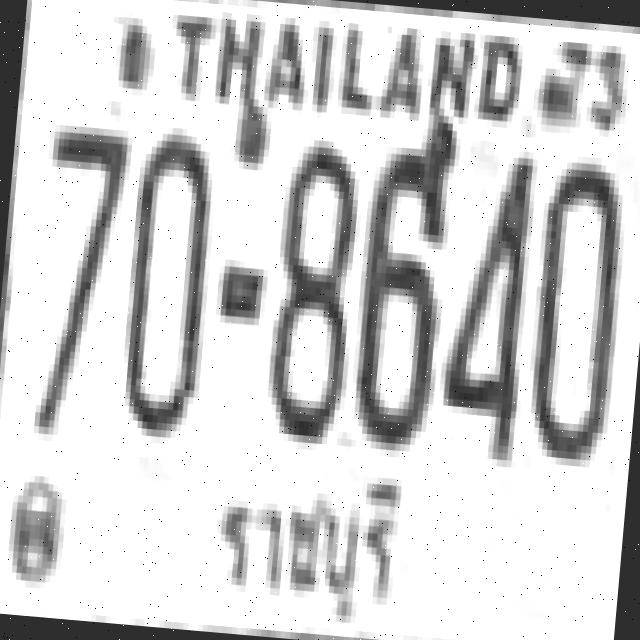0: (522, 153, 626, 461), (114, 125, 218, 432)
4: (434, 142, 534, 456)
6: (346, 130, 451, 446)
7: (26, 116, 128, 418), (34, 113, 129, 323)
8: (261, 130, 361, 438)
Ratchaburi: (192, 456, 421, 638)
